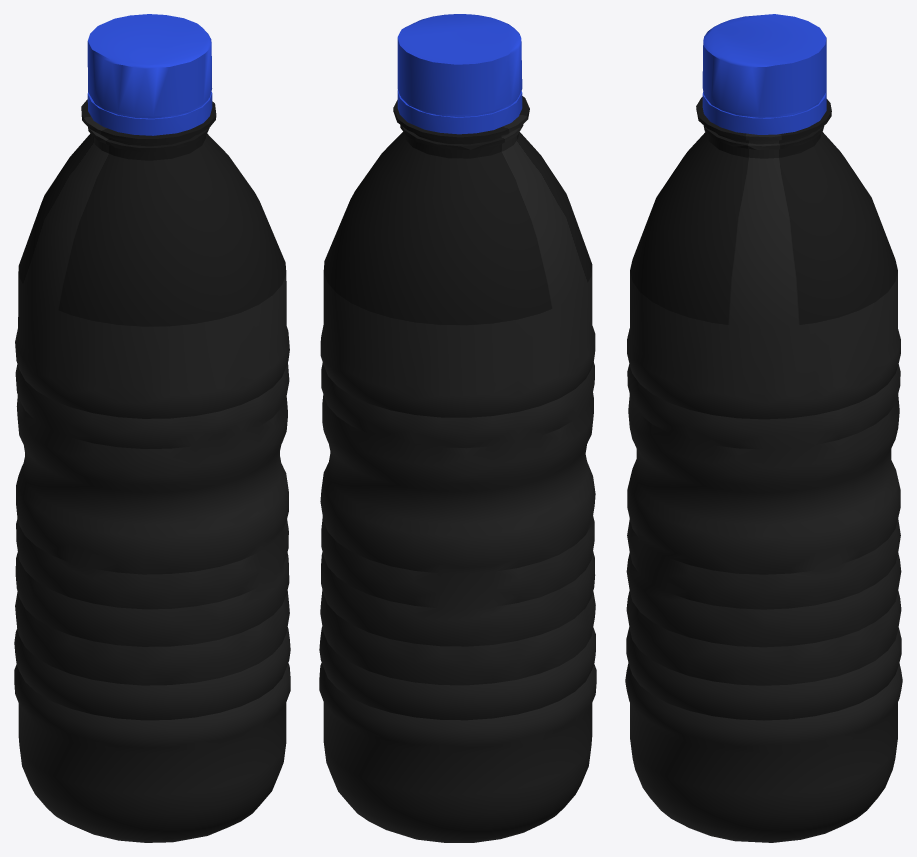
The model's file is bottle_LOD1.fbx.
3 renders of one model, left to right at view 1: azimuth 30°, elevation 25°; view 2: azimuth 150°, elevation 25°; view 3: azimuth 270°, elevation 25°, orthographic.
Visible parts, largest first — view 1: Cylinder_LOD1, bottle_cap_LOD1; view 2: Cylinder_LOD1, bottle_cap_LOD1; view 3: Cylinder_LOD1, bottle_cap_LOD1.
Boxes of the visible parts, <box> form: Cylinder_LOD1: <box>14,99,290,842</box>; bottle_cap_LOD1: <box>87,14,212,135</box>; Cylinder_LOD1: <box>319,96,596,842</box>; bottle_cap_LOD1: <box>397,14,522,134</box>; Cylinder_LOD1: <box>625,97,902,842</box>; bottle_cap_LOD1: <box>702,14,826,134</box>.
Size of the model in its own units: 153 by 466 by 153.
2 materials, 1 textured.
